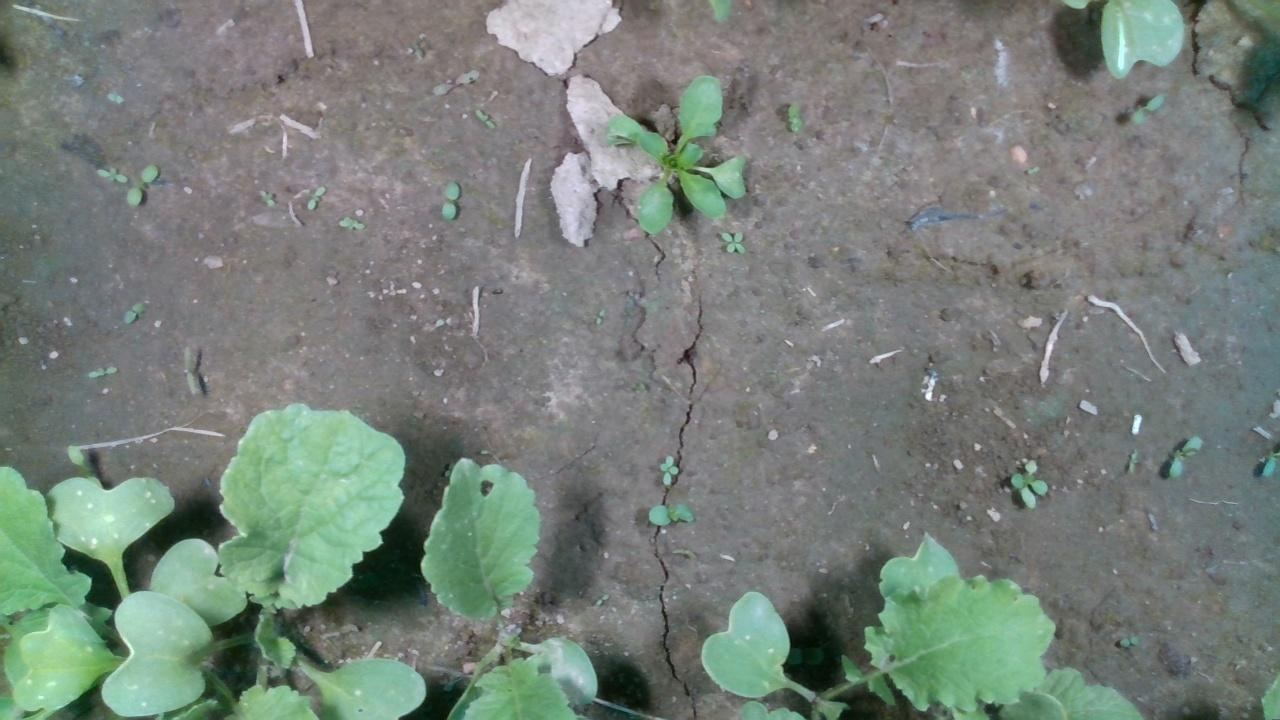weed: (1008, 458, 1048, 509), (125, 162, 160, 207), (1168, 434, 1202, 478), (1128, 91, 1164, 125), (646, 500, 695, 524), (439, 178, 459, 221), (182, 344, 197, 396), (93, 164, 127, 185), (657, 452, 678, 485), (718, 230, 746, 254), (119, 301, 144, 326), (787, 98, 802, 134), (307, 183, 326, 210), (85, 362, 117, 378), (473, 108, 495, 128), (255, 189, 277, 208), (1126, 447, 1138, 473), (593, 307, 603, 327)
